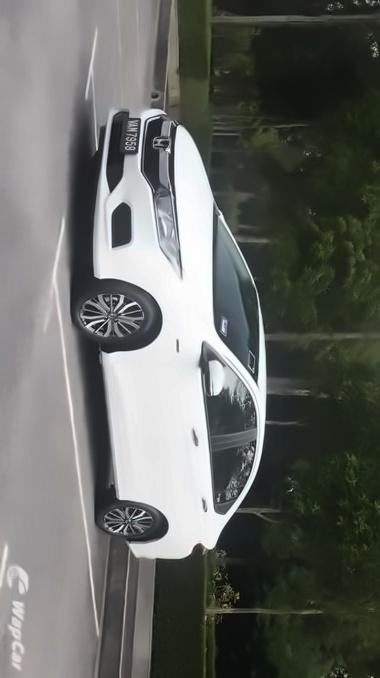Car hood: (171, 120, 218, 310)
Fender - -F-L-: (106, 277, 220, 359)
Fender - -R-L-: (118, 496, 214, 551)
Front bumper: (87, 101, 161, 291)
Headlight - -L-: (147, 181, 185, 280)
Passenger-s door - -F-L-: (116, 358, 262, 446)
Passenger-s door - -R-L-: (116, 446, 262, 514)
Rear bumper: (122, 529, 175, 564)
Rear light - -L-: (184, 533, 215, 561)
Side bumper - -L-: (97, 338, 130, 508)
Side mirror - -L-: (200, 353, 228, 406)
